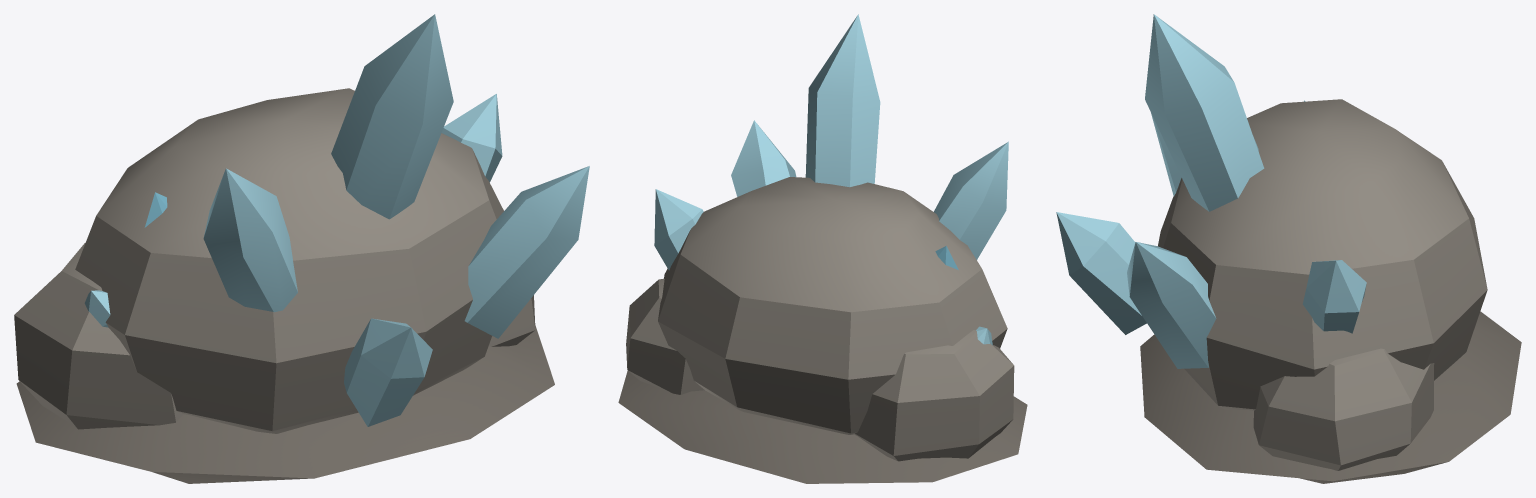
The model's file is outcrop-rock_crystal.glb.
The picture shows the model from 3 angles, left to right: view 1: azimuth 30°, elevation 25°; view 2: azimuth 150°, elevation 25°; view 3: azimuth 270°, elevation 25°; orthographic projection. The views are drawn at different scales.
Visible parts, largest first — view 1: outcrop-rock_crystal; view 2: outcrop-rock_crystal; view 3: outcrop-rock_crystal.
Boxes of the visible parts, <box> form: outcrop-rock_crystal: <box>14,14,589,483</box>; outcrop-rock_crystal: <box>618,14,1027,483</box>; outcrop-rock_crystal: <box>1056,14,1521,483</box>.
Size of the model in its own units: 0.4773 by 0.4309 by 0.4224.
